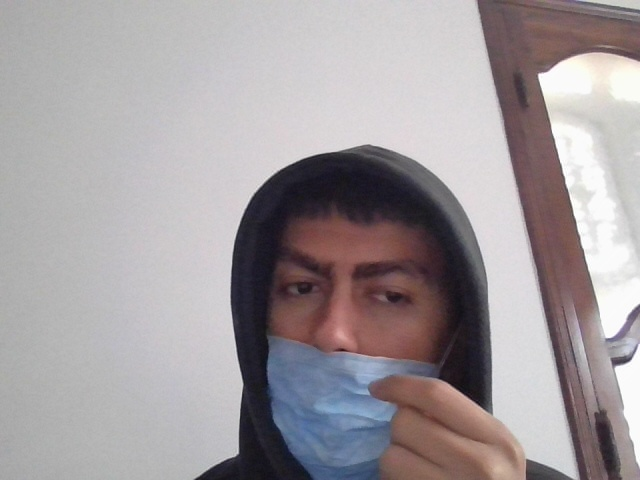mask_weared_incorrect: (262, 191, 468, 479)
